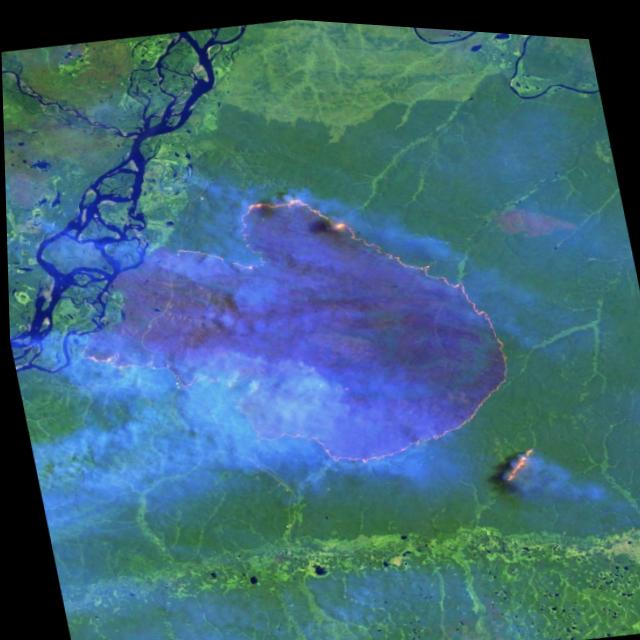fire: (38, 141, 560, 567)
